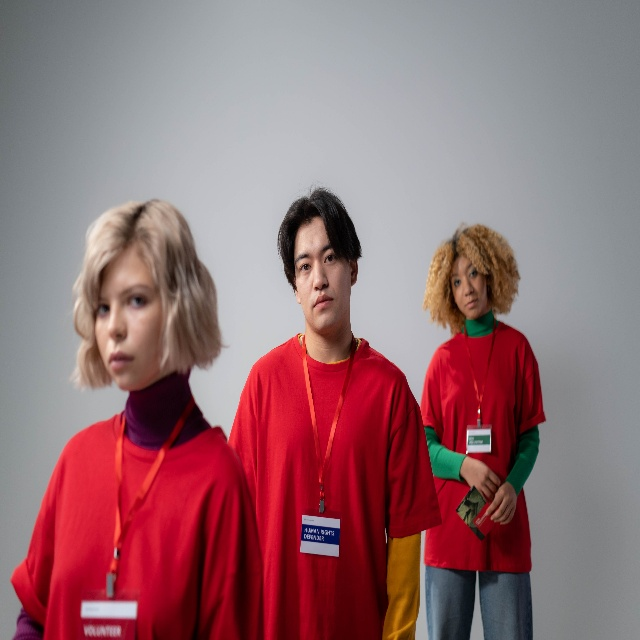Sin_guantes: (482, 483, 515, 525), (466, 457, 499, 498)
